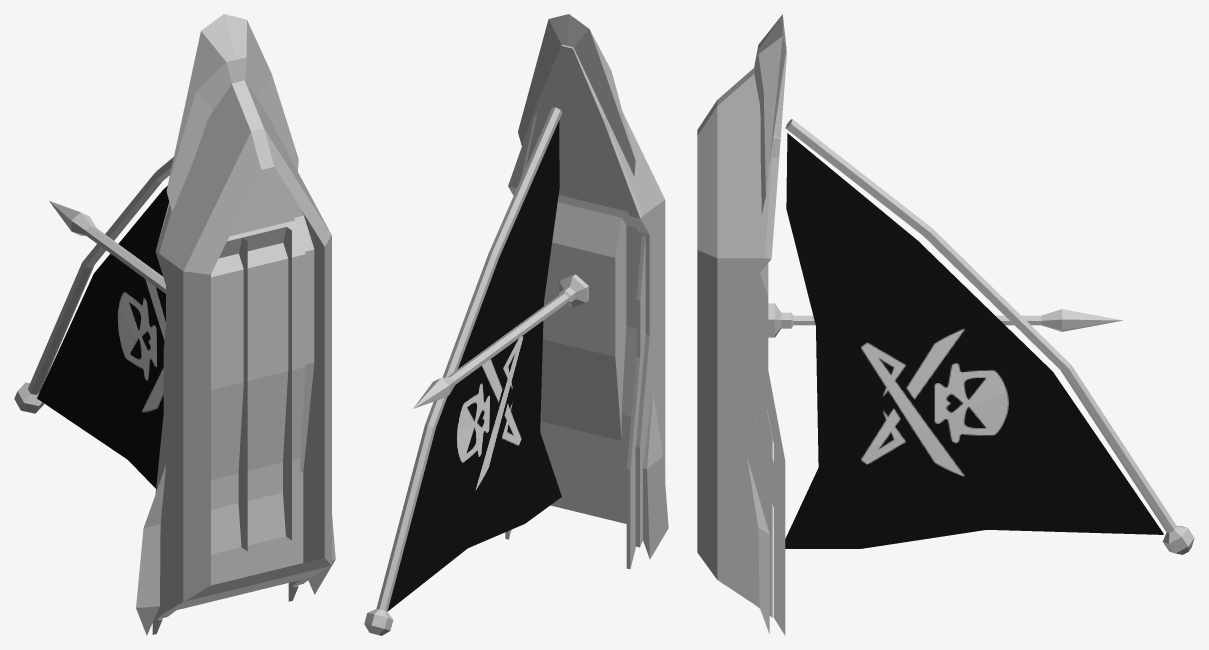
Rendered from skin_5.fbx.
3 views of the same model, side by side, from view 1: azimuth 30°, elevation 25°; view 2: azimuth 150°, elevation 25°; view 3: azimuth 270°, elevation 25° (orthographic). The views are drawn at different scales.
Parts seen in each view (by area): view 1: Cylinder.054; view 2: Cylinder.054; view 3: Cylinder.054.
Part boxes in pixels (left/top/right/bottom): Cylinder.054: left=14, top=14, right=335, bottom=635; Cylinder.054: left=364, top=14, right=668, bottom=635; Cylinder.054: left=697, top=14, right=1194, bottom=635.
Bounding box in the file's own units: 458 × 1324 × 1013.
